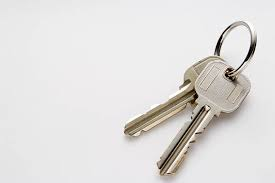key: (155, 61, 254, 181)
